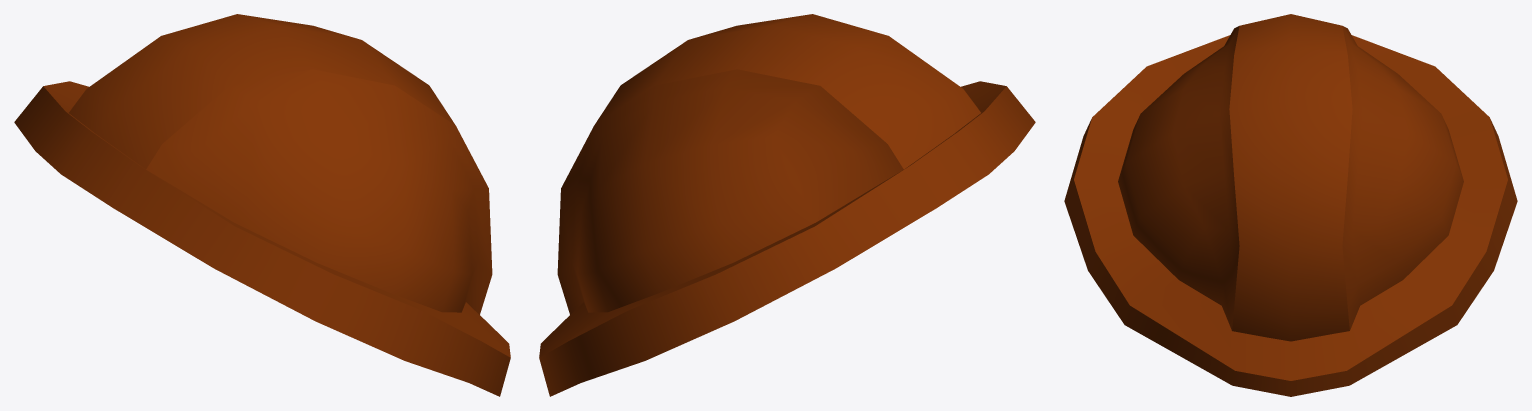
File: hat_defence.fbx
3 renders of one model, left to right at view 1: azimuth 30°, elevation 25°; view 2: azimuth 150°, elevation 25°; view 3: azimuth 270°, elevation 25°, orthographic. The views are drawn at different scales.
Visible parts, largest first — view 1: hat_yellow; view 2: hat_yellow; view 3: hat_yellow.
Part boxes in pixels (x1,y1,x2,y2): hat_yellow: (14,14,510,396); hat_yellow: (539,14,1035,396); hat_yellow: (1064,14,1517,396).
Bounding box in the file's own units: 70.62 × 58.57 × 86.74.
